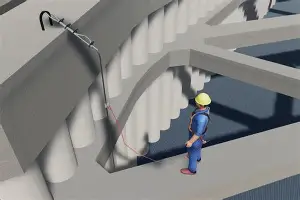safety belt: (187, 113, 207, 141)
